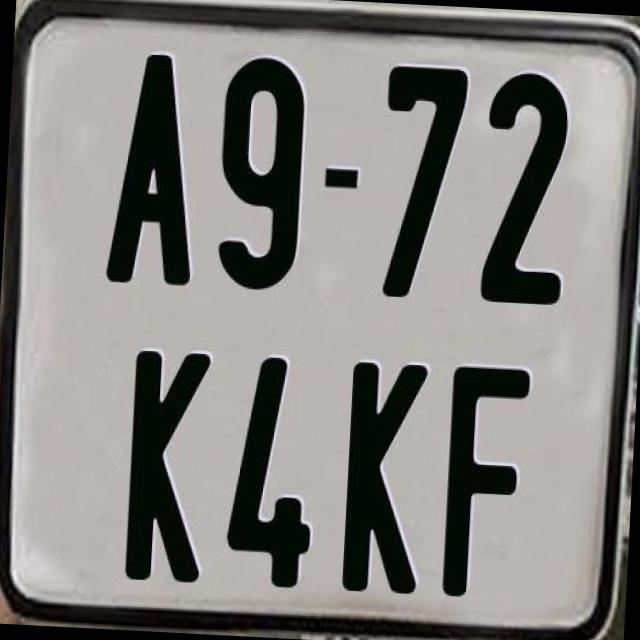2: (477, 69, 572, 312)
4: (223, 356, 322, 593)
7: (374, 61, 472, 300)
9: (212, 52, 304, 288)
A: (103, 51, 203, 292)
F: (442, 360, 533, 600)
K: (120, 345, 210, 586), (339, 362, 427, 602)
